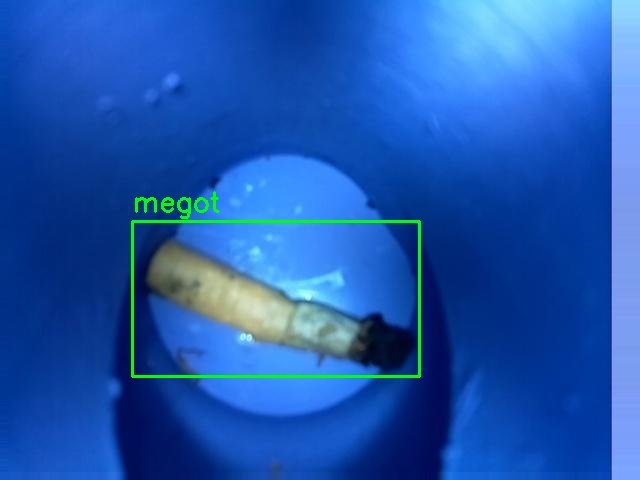megot: (132, 221, 419, 376)
